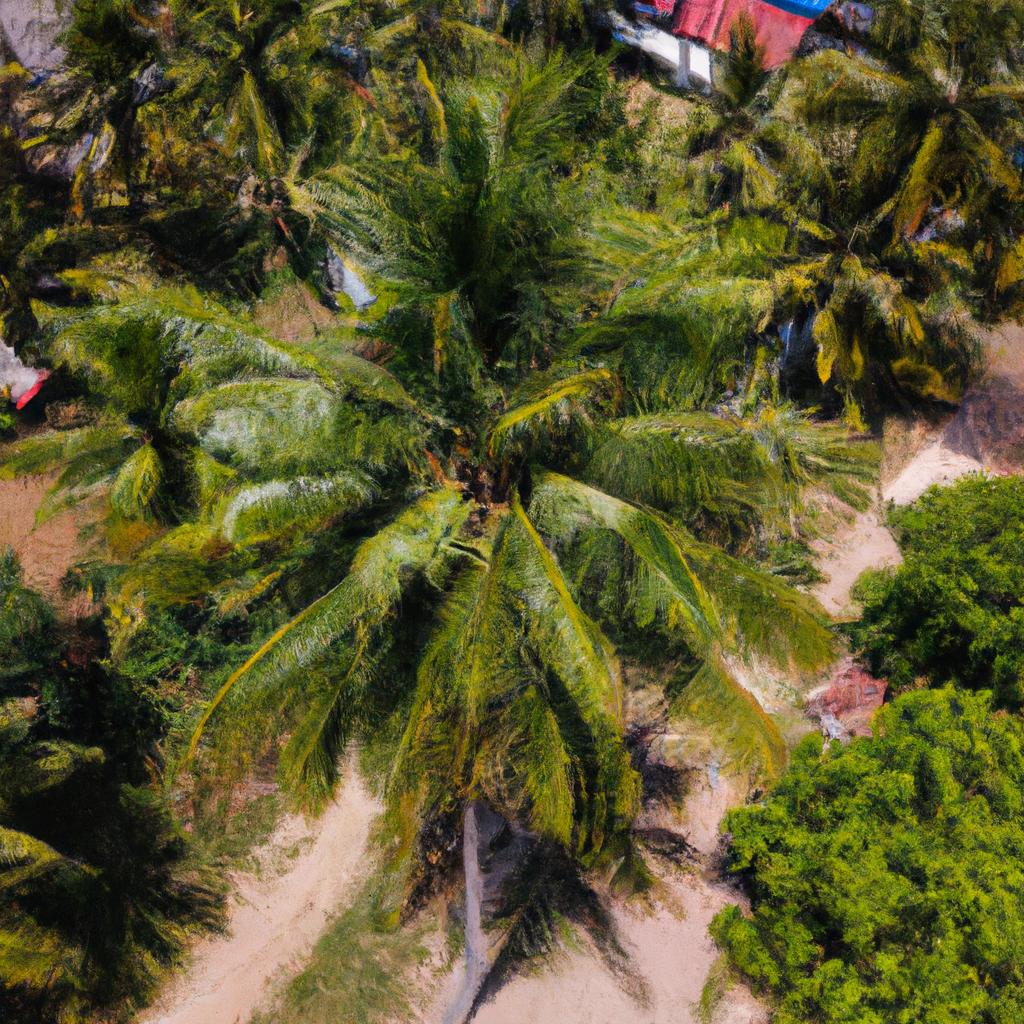coconut_tree: (65, 124, 859, 878)
